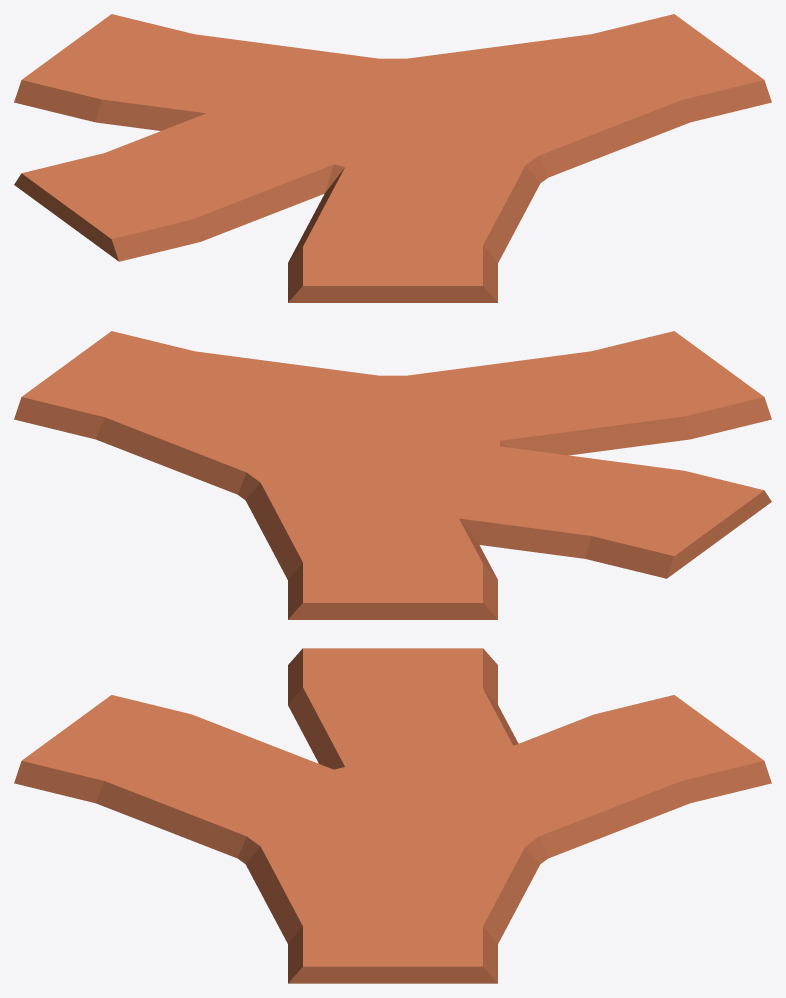
Rendered from path_intersectionD.dae.
The picture shows the model from 3 angles, top to bottom: view 1: azimuth 30°, elevation 25°; view 2: azimuth 150°, elevation 25°; view 3: azimuth 270°, elevation 25°; orthographic projection.
Parts seen in each view (by area): view 1: path_intersectionD; view 2: path_intersectionD; view 3: path_intersectionD.
Boxes of the visible parts, x1,y1,x2,y2 form: path_intersectionD: (14,14,771,302); path_intersectionD: (14,331,771,619); path_intersectionD: (14,648,771,983).
Bounding box in the file's own units: 1 × 0.025 × 1.01.
